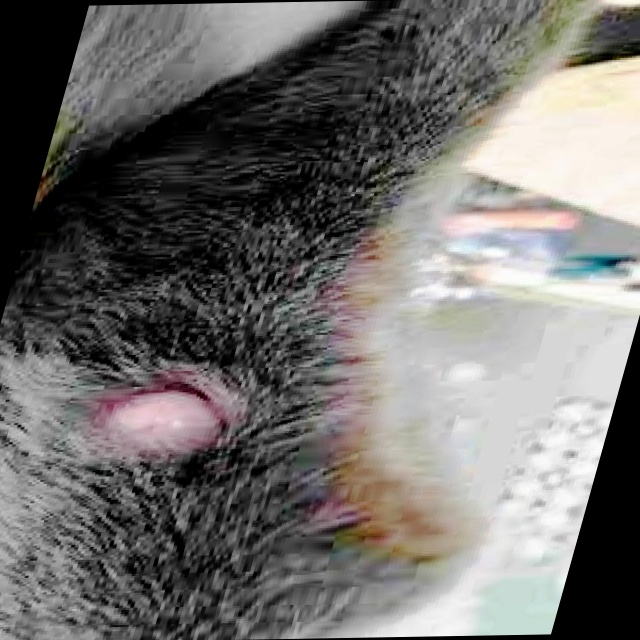lump_and_bump: (84, 374, 249, 458)
